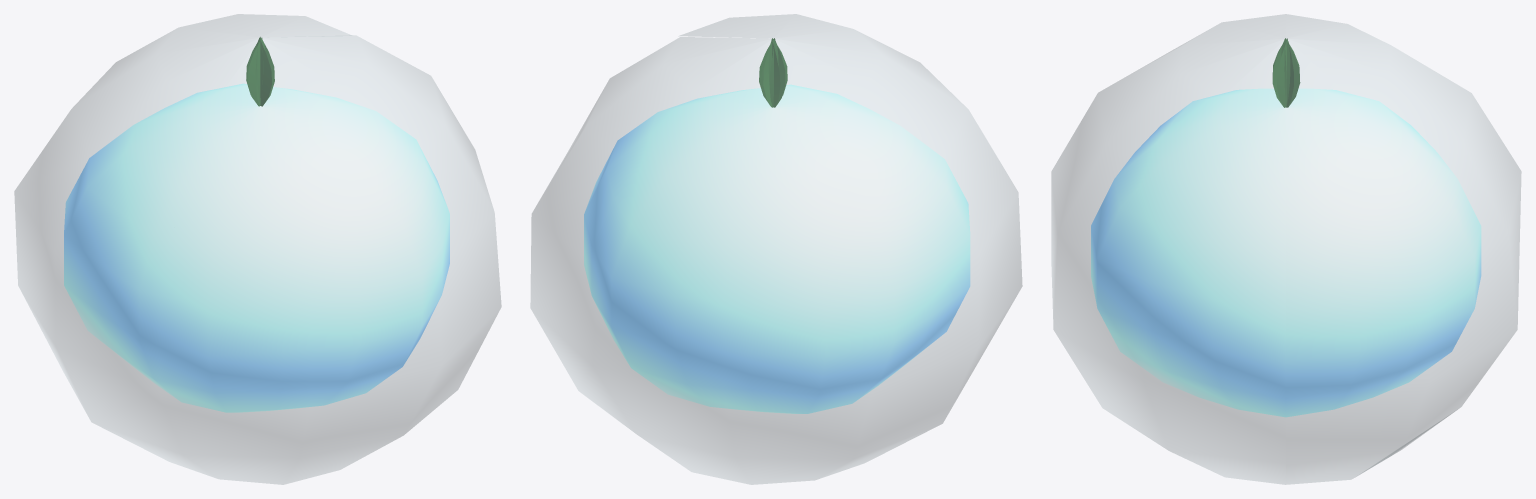
Rendered from fruit-tomato-frozen.gltf.
The picture shows the model from 3 angles, left to right: view 1: azimuth 30°, elevation 25°; view 2: azimuth 150°, elevation 25°; view 3: azimuth 270°, elevation 25°; orthographic projection.
Bounding box in the file's own units: 0.4909 × 0.4724 × 0.4743.
